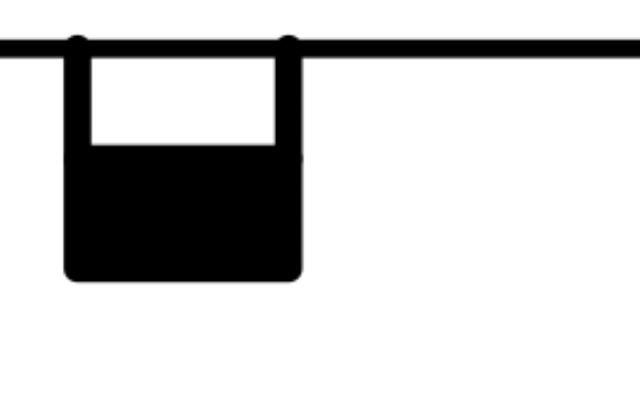radzaehler: (54, 23, 316, 303)
